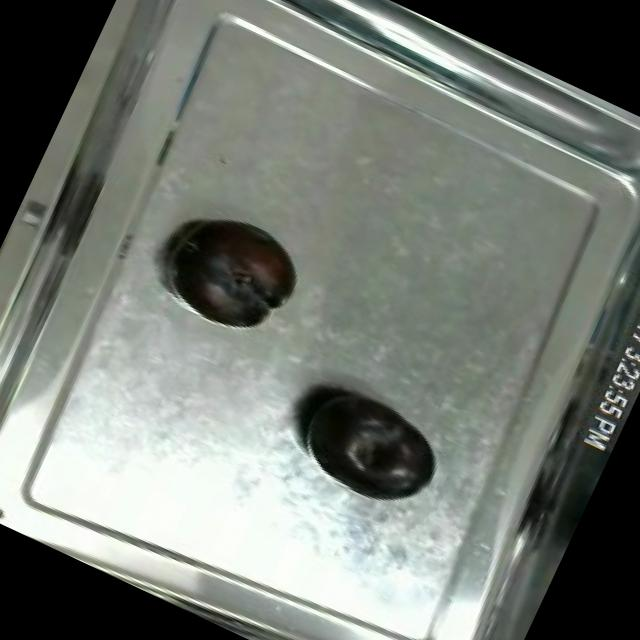Fruit: (278, 366, 460, 522), (162, 200, 314, 344)
